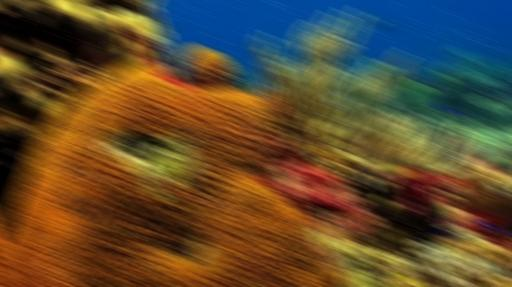Fish: (433, 228, 466, 239), (484, 222, 503, 233), (440, 214, 453, 229), (433, 229, 454, 238), (436, 106, 459, 114), (367, 17, 384, 26), (446, 229, 465, 236)
